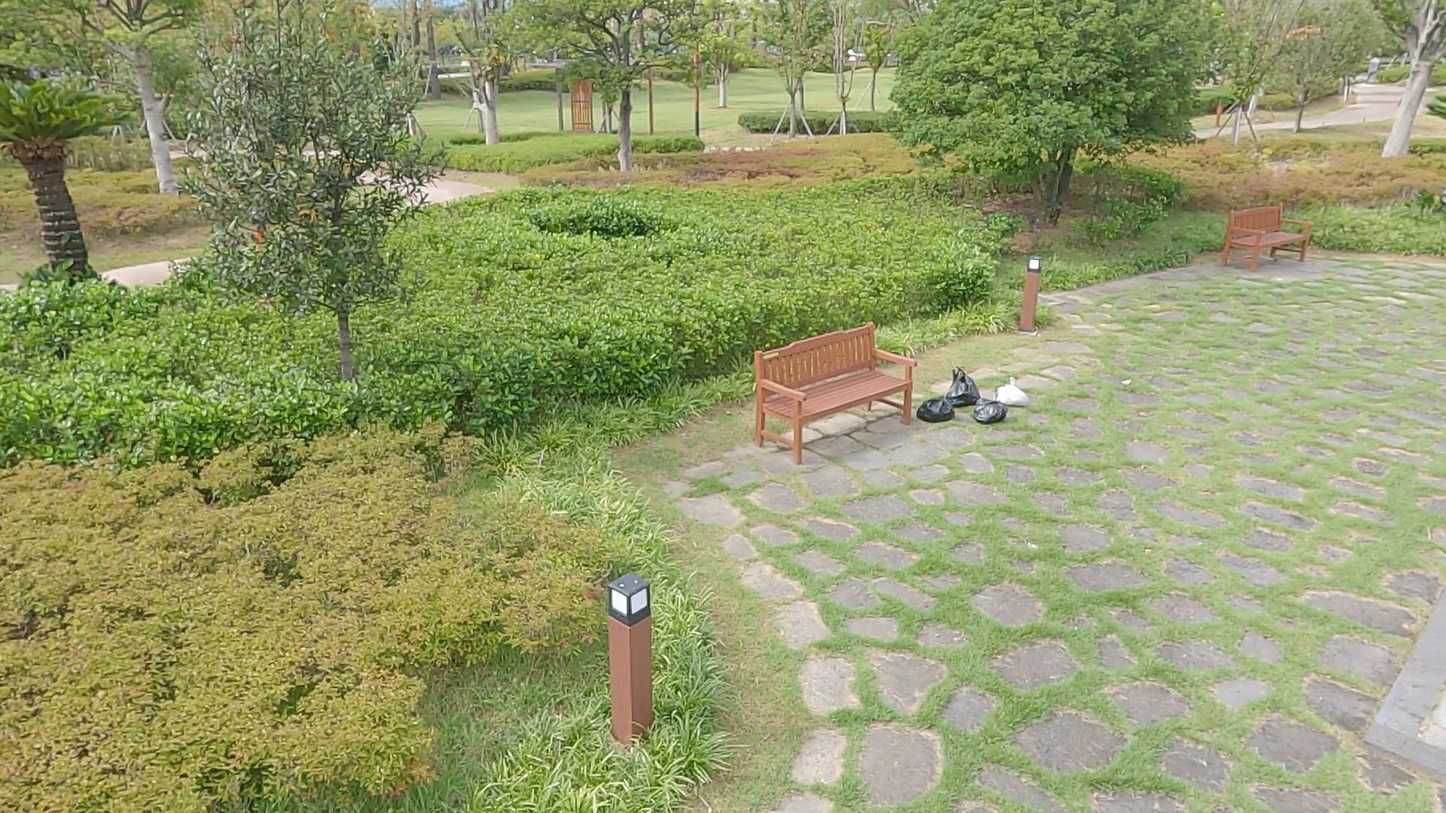trash: (944, 363, 985, 410), (992, 372, 1033, 414), (917, 386, 953, 420), (967, 396, 1007, 426)
